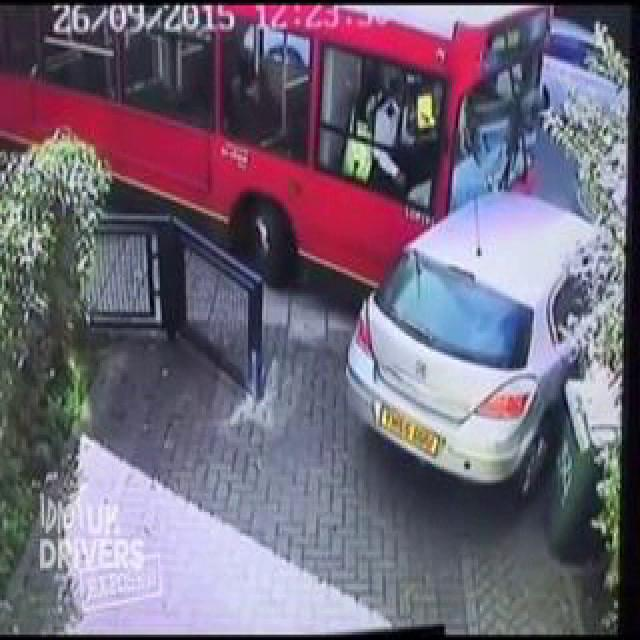road accidents: (275, 0, 605, 520)
